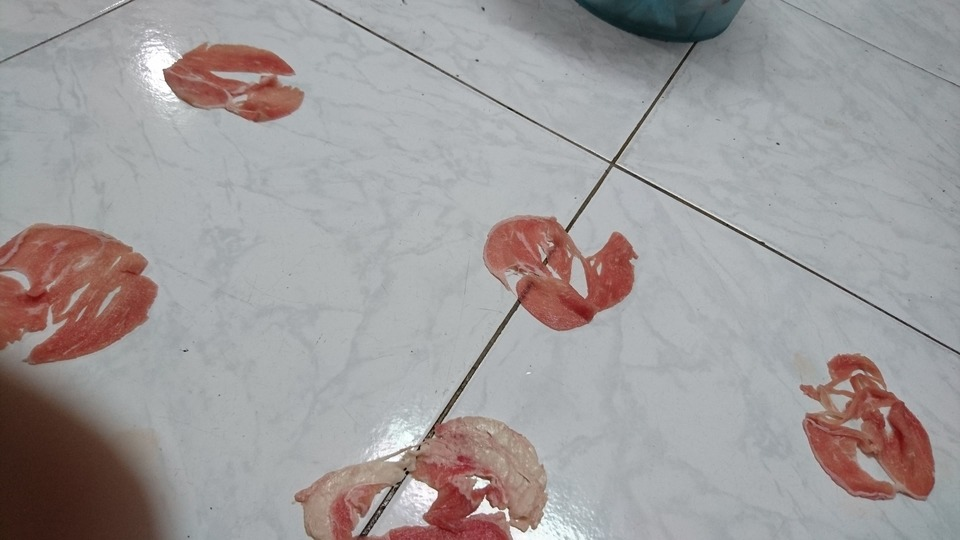restructured meat: (294, 409, 556, 540), (779, 341, 960, 503), (481, 199, 637, 343), (1, 224, 156, 368), (160, 35, 303, 128)
